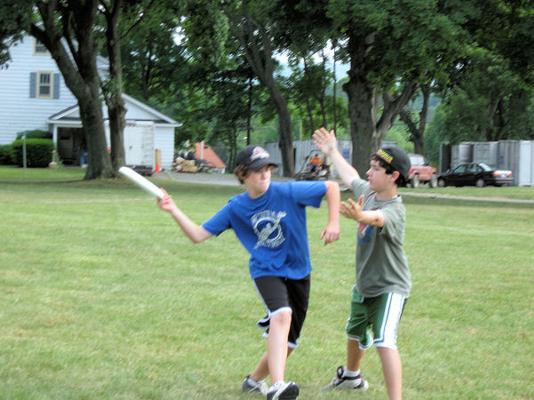person: (155, 145, 343, 400)
